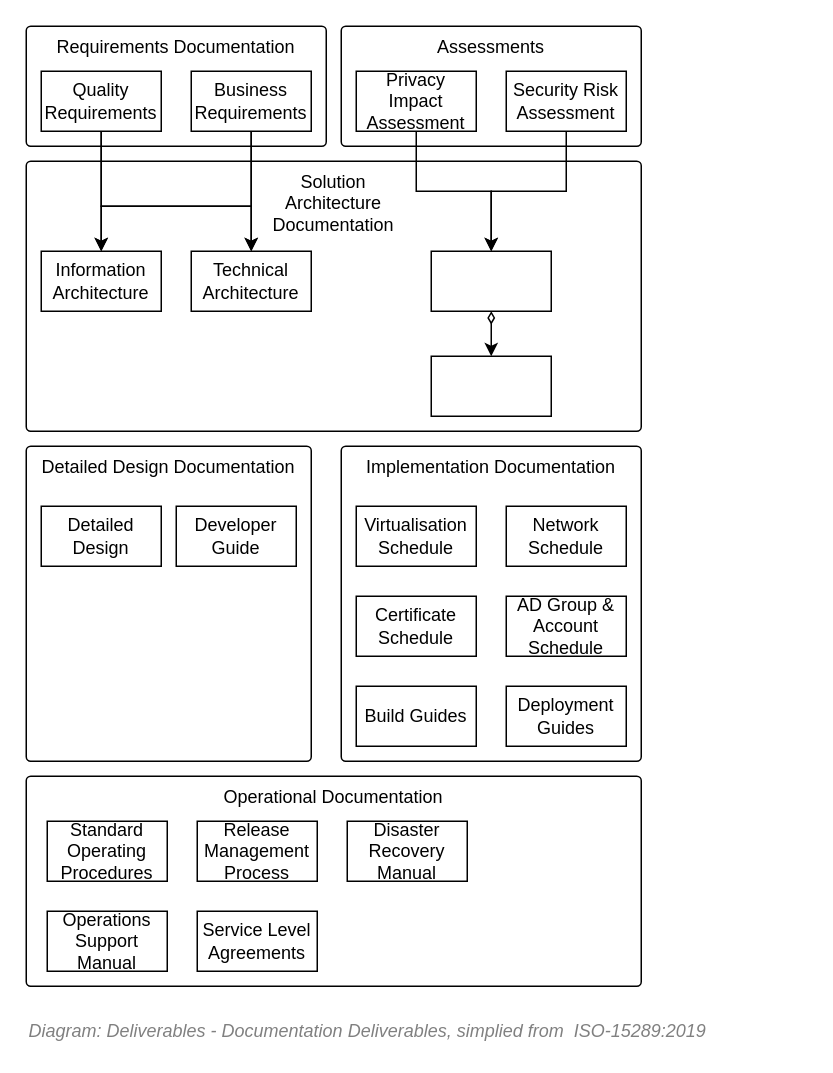
This 833x1073 diagram has some shape labels left out. Here are the shapes that lost their labels. From the top down, the centre of each, then its label:
At [490,280]: "Security Architecture".
At [490,385]: "Access Security Matrix".
